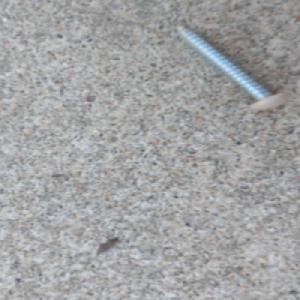Screw: (171, 21, 290, 111)
